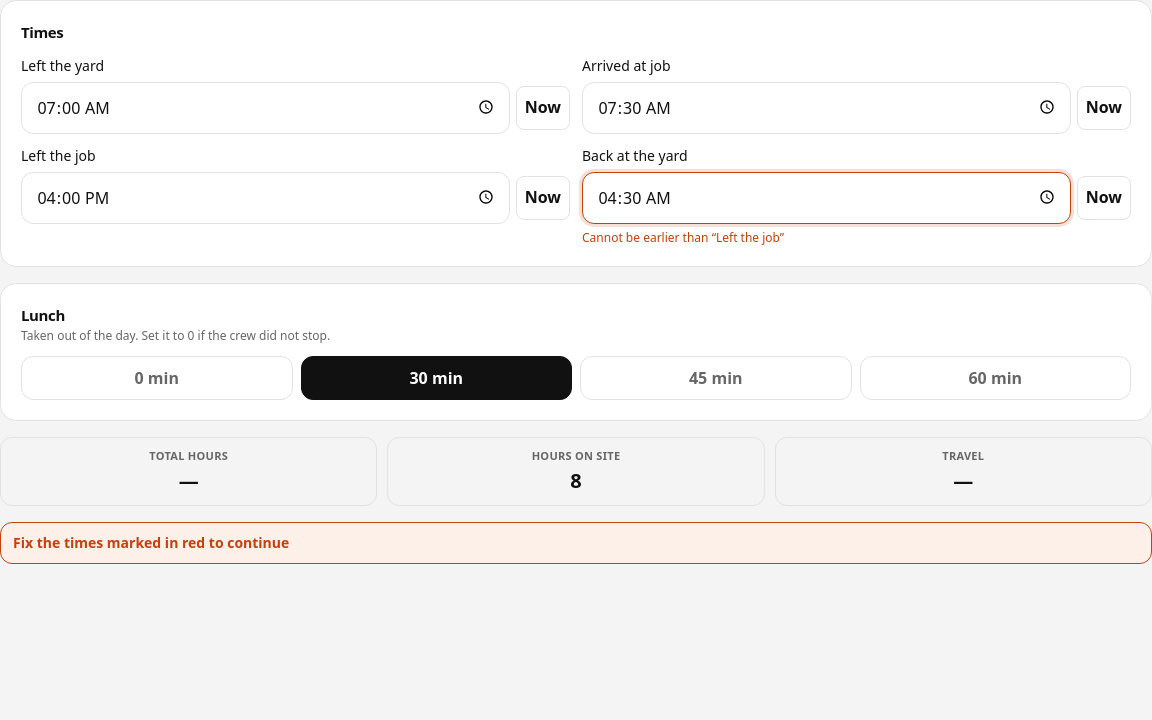
times that contradict each other › clears the error as soon as the time is corrected
Check: the message "Cannot be earlier than “Left the job”" is shown, box top-left (582, 228), bottom-right (784, 246)
Replace the text in the time field labelled "Back at the yard" with "16:30" at (826, 198), box top-left (582, 172), bottom-right (1071, 224)
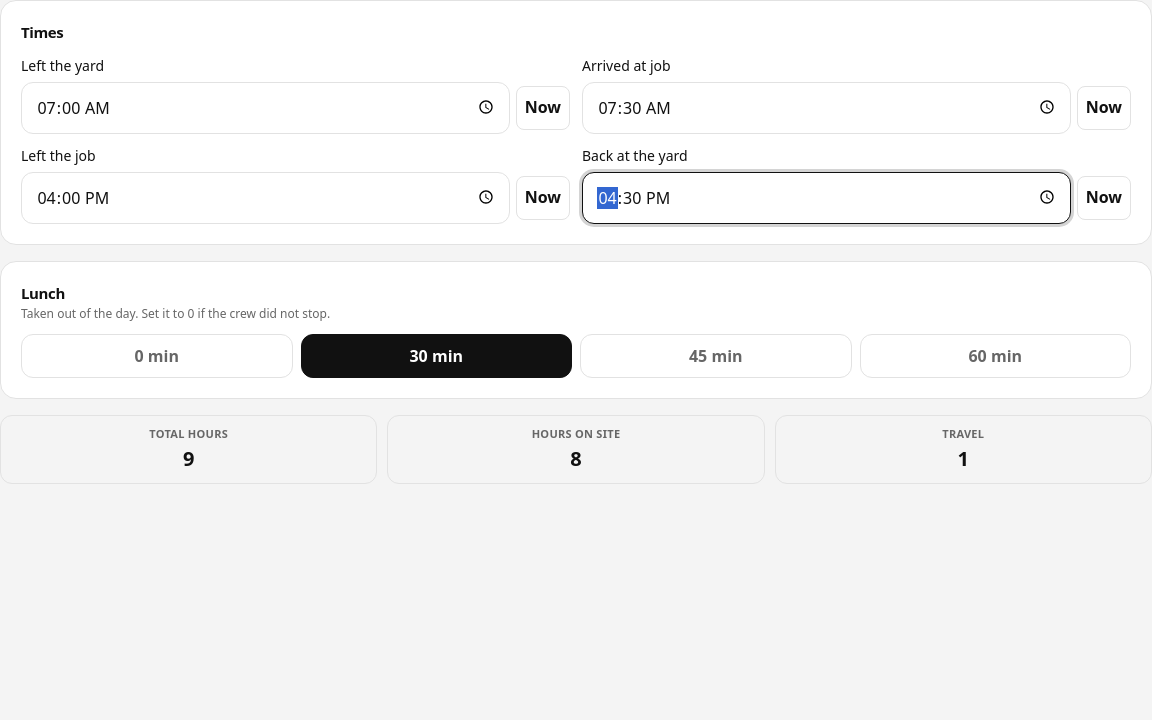
Check: the message "Cannot be earlier than “Left the job”" is not shown
Check: the text "9" is shown, box top-left (183, 444), bottom-right (194, 472)
